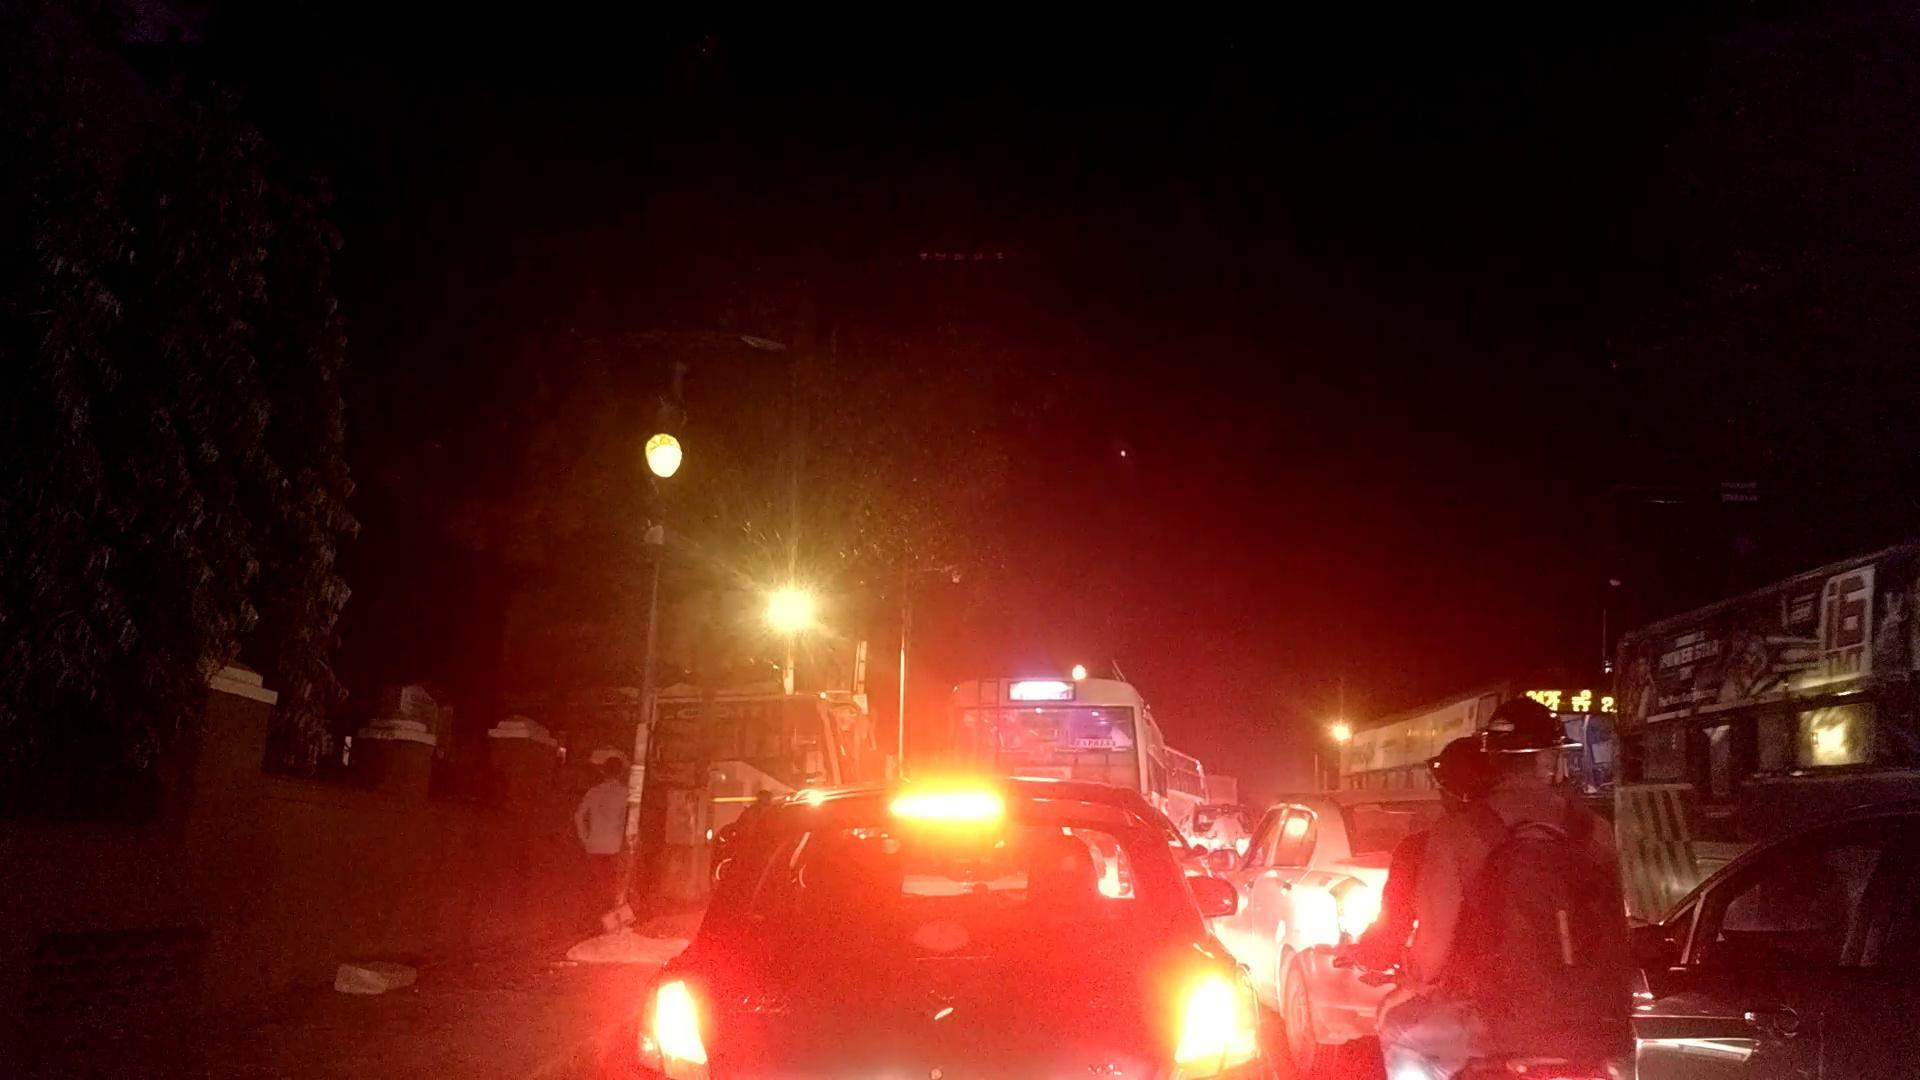on: (530, 382, 1023, 843)
